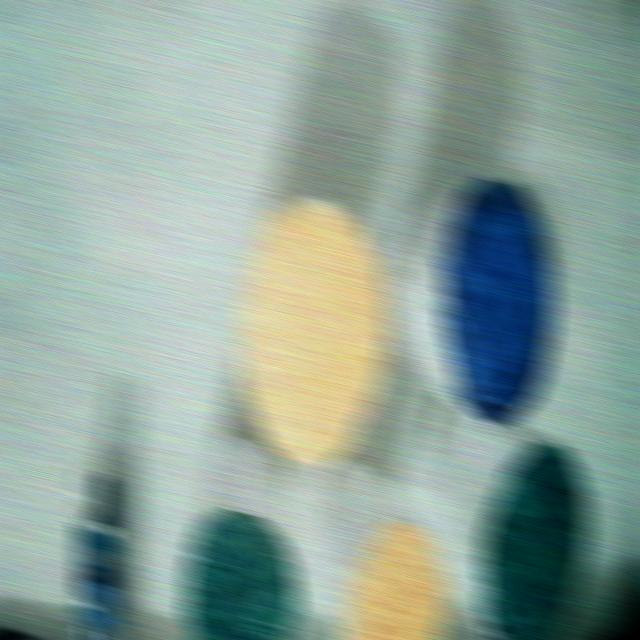blue: (439, 180, 554, 423)
green: (478, 442, 589, 639), (182, 514, 299, 639)
yellow: (238, 200, 389, 465), (342, 522, 447, 639)
